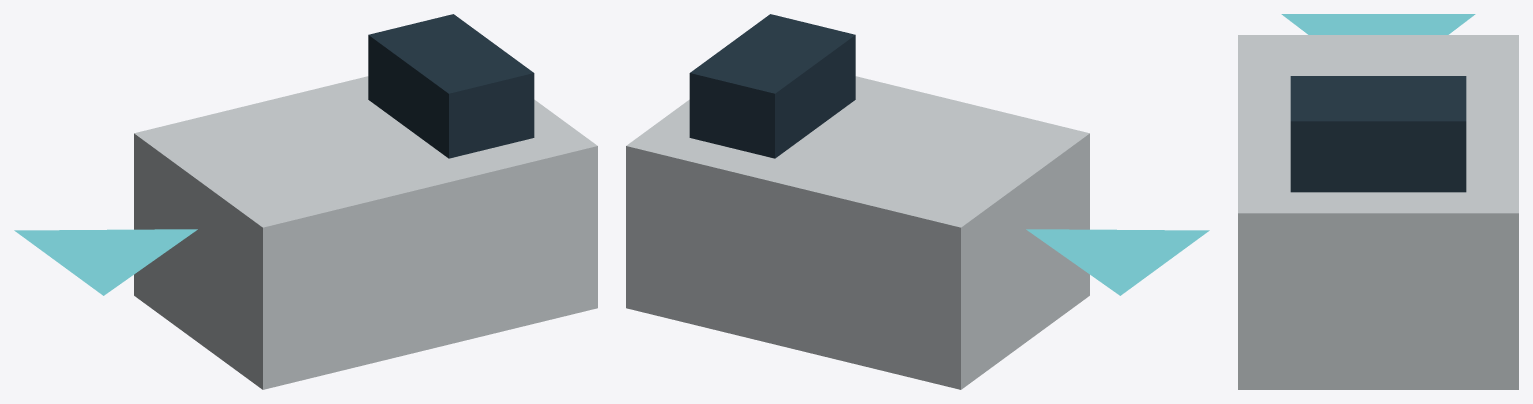
The model's file is hammer-formation-wrecker-hoverbike-v1.glb.
The picture shows the model from 3 angles, left to right: view 1: azimuth 30°, elevation 25°; view 2: azimuth 150°, elevation 25°; view 3: azimuth 270°, elevation 25°; orthographic projection. The views are drawn at different scales.
Parts seen in each view (by area): view 1: Hull, Cockpit, Rear fin; view 2: Hull, Cockpit, Rear fin; view 3: Hull, Cockpit, Rear fin.
Boxes of the visible parts, bbox=[...] form: Hull: bbox=[134, 76, 597, 389]; Cockpit: bbox=[368, 14, 534, 158]; Rear fin: bbox=[14, 229, 197, 295]; Hull: bbox=[626, 76, 1089, 389]; Cockpit: bbox=[689, 14, 855, 158]; Rear fin: bbox=[1026, 229, 1209, 295]; Hull: bbox=[1238, 35, 1518, 389]; Cockpit: bbox=[1290, 76, 1466, 192]; Rear fin: bbox=[1281, 14, 1475, 34].
Bounding box in the file's own units: 61.2 × 28 × 28.8.
